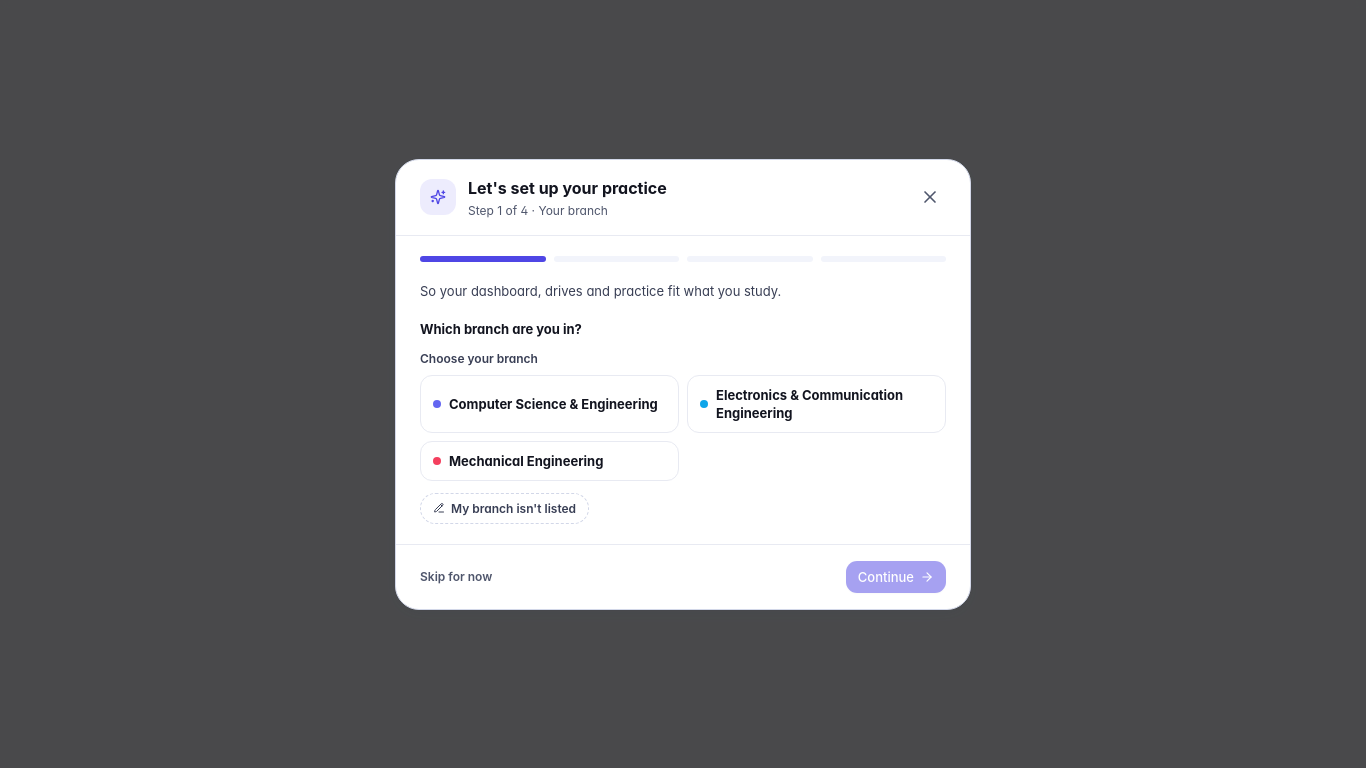
a branch that is not on the list › needs something written before it will continue, and then hides the listed branches
Click the radio button labelled "Mechanical Engineering".
click(550, 460)  # box [420,440,679,480]
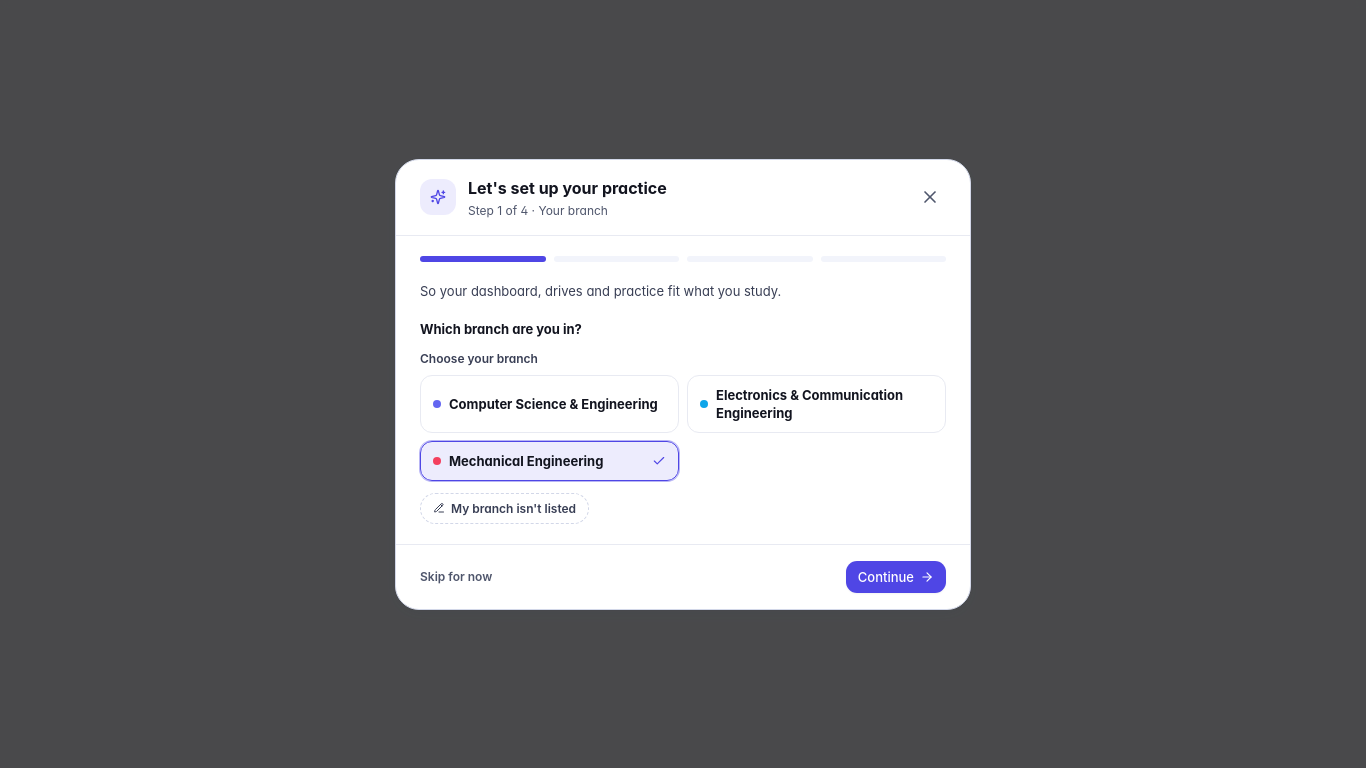
Expected: the button "Continue" is enabled, [846,560,946,592]
Click the button "My branch isn't listed".
click(505, 508)  # box [420,492,589,524]
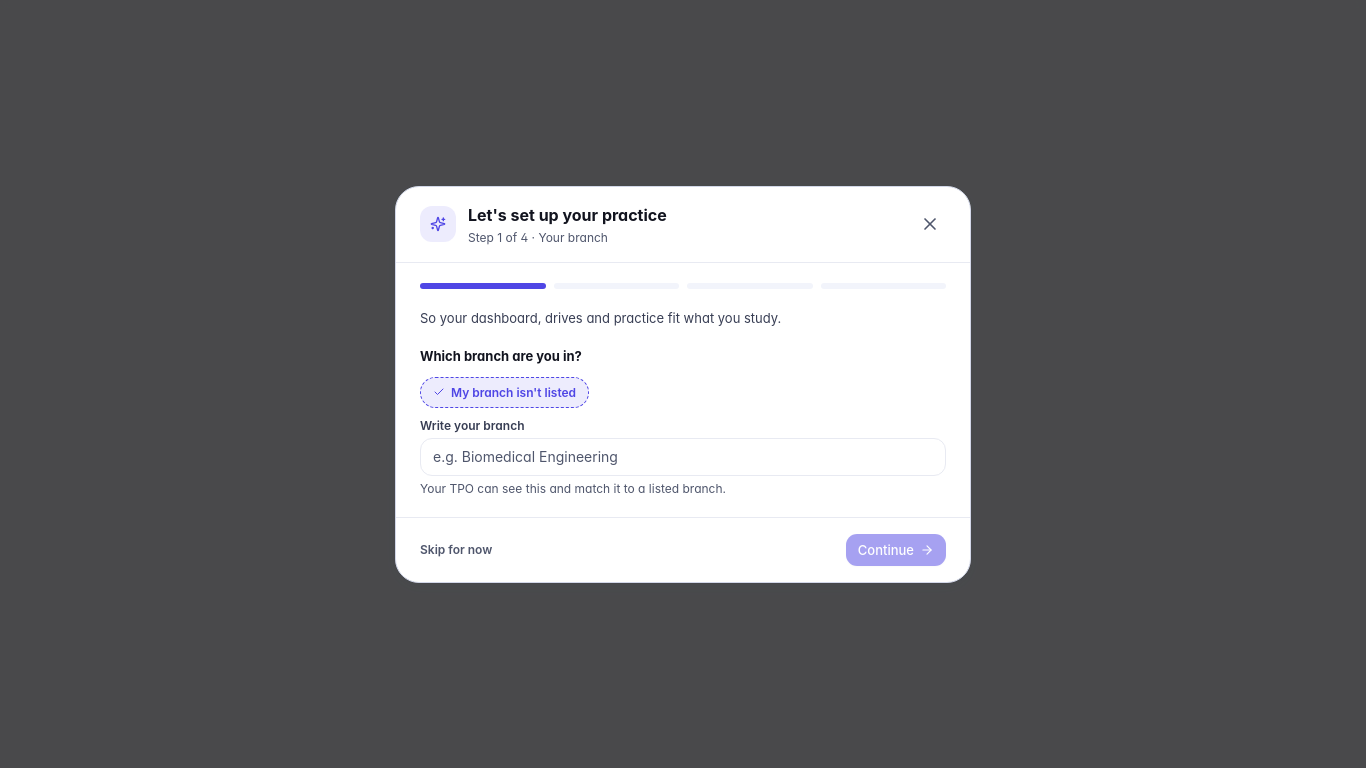
Expected: the radio button labelled "Mechanical Engineering" is gone
Expected: the button "Continue" is disabled, [846,534,946,566]
Type "B" into the field with placeholder "e.g. Biomedical Engineering".
click(683, 456); type("B")  # box [420,438,946,476]
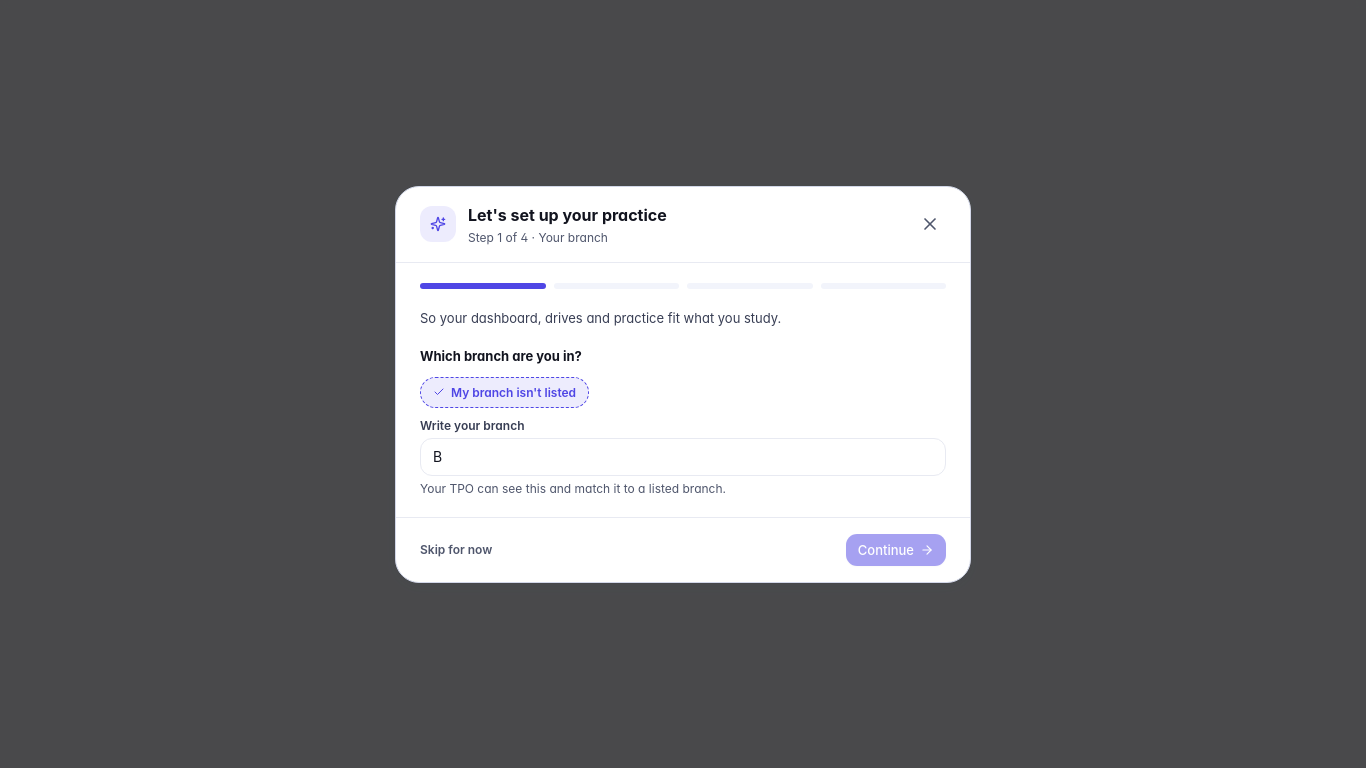
Expected: the button "Continue" is disabled, [846,534,946,566]
Replace the text in the field with placeholder "e.g. Biomedical Engineering" with "Biomedical Engineering" at (683,456), box [420,438,946,476]
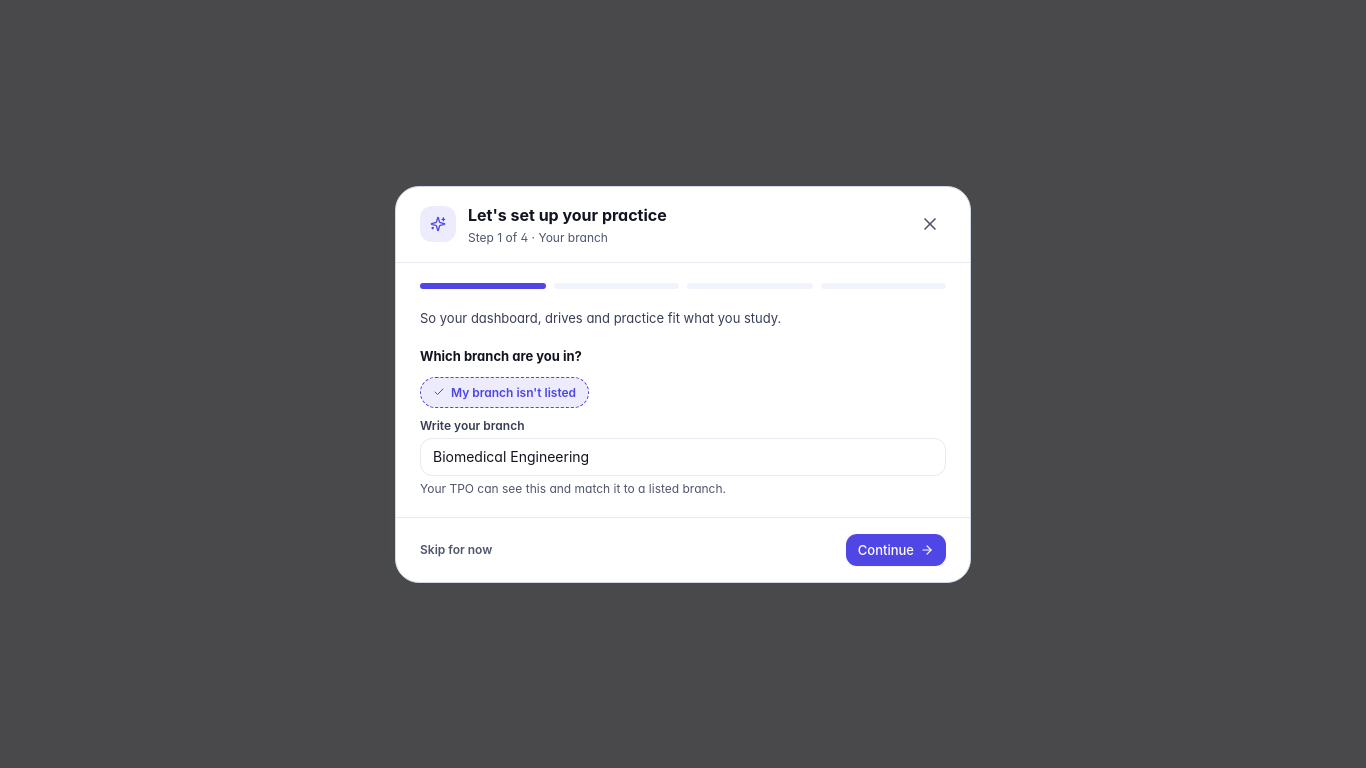
Expected: the button "Continue" is enabled, [846,534,946,566]
